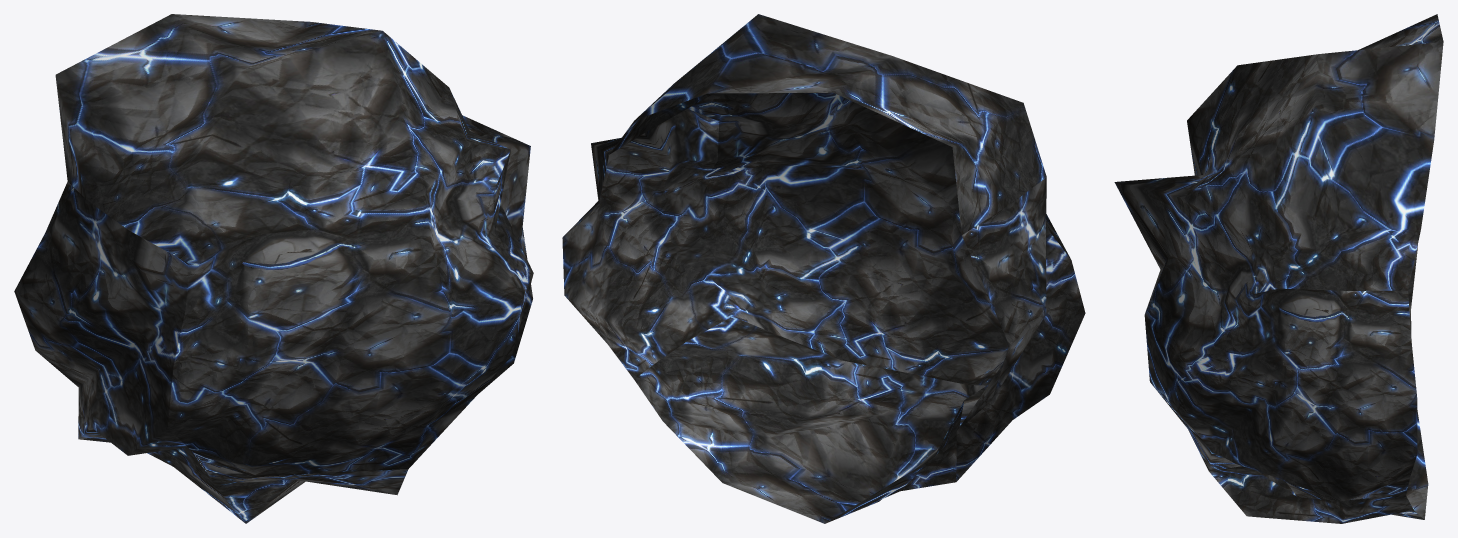
Rendered from boulder_2.FBX.
3 views of the same model, side by side, from view 1: azimuth 30°, elevation 25°; view 2: azimuth 150°, elevation 25°; view 3: azimuth 270°, elevation 25° (orthographic). The views are drawn at different scales.
Visible parts, largest first — view 1: Box001; view 2: Box001; view 3: Box001.
Part boxes in pixels (x1,y1,x2,y2): Box001: (14,14,533,523); Box001: (562,14,1085,523); Box001: (1114,14,1443,523).
Bounding box in the file's own units: 155 × 97.75 × 147.
